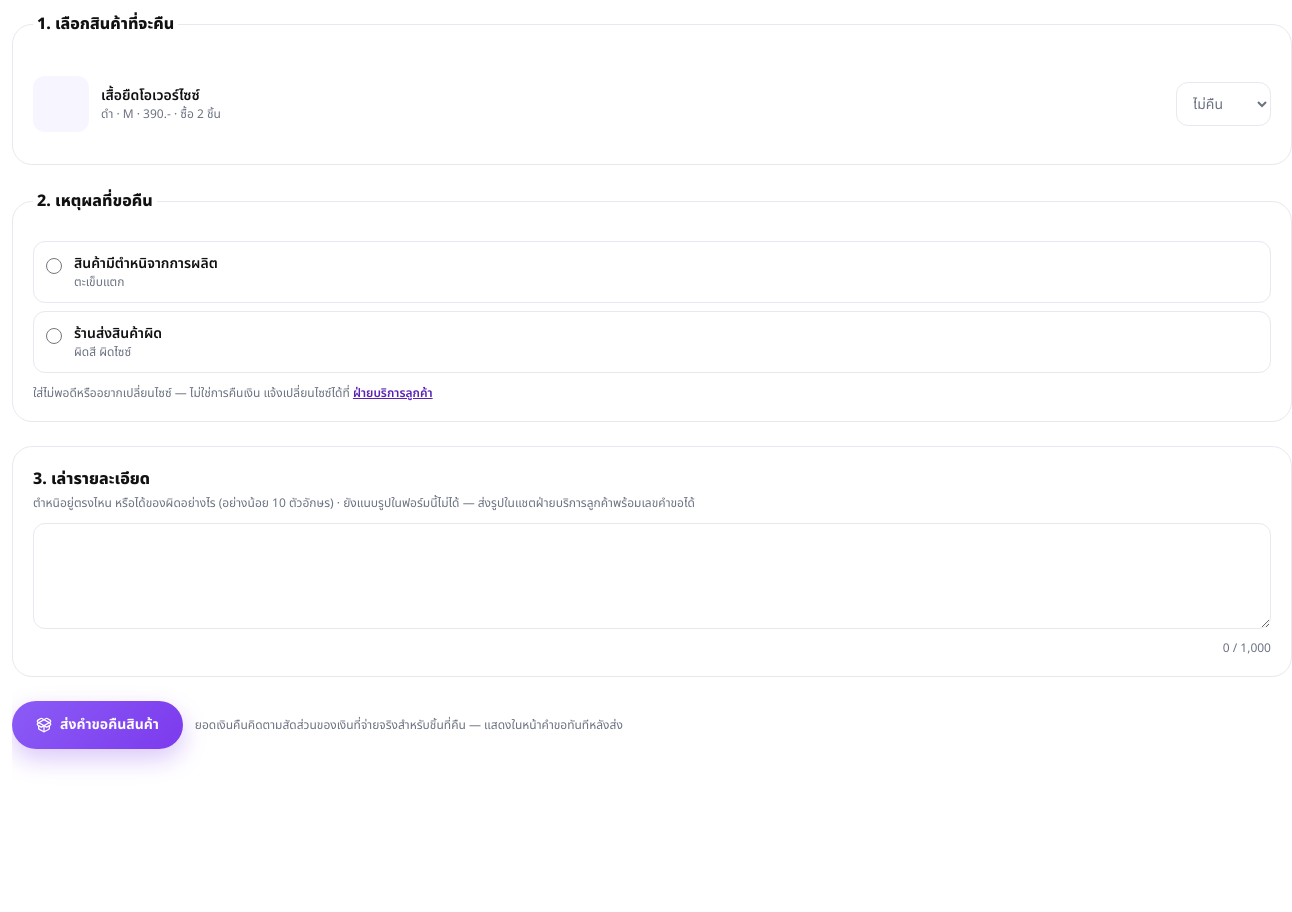
Test: ReturnRequestForm — ขอคืนสินค้า (STEP 43) › ไม่เลือกชิ้น / ไม่เลือกเหตุผล / รายละเอียดสั้นเกิน → ไม่ยิง API และบอกว่าต้องแก้อะไร
The image size is (1292, 912).
Click the button "ส่งคำขอคืนสินค้า" at (97, 725), box [12, 701, 183, 749]
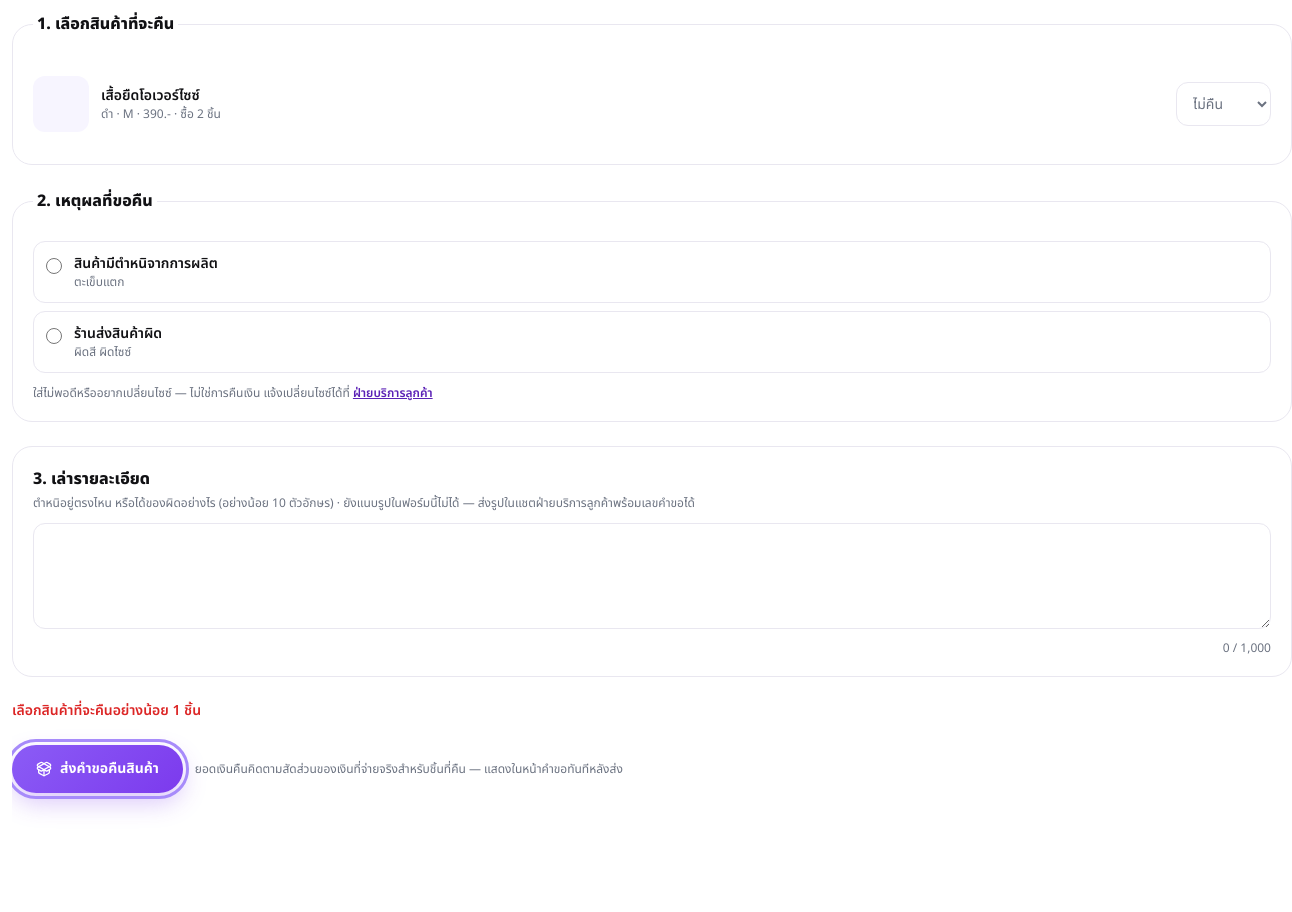
Expected: the message shows "เลือกสินค้า", [12, 700, 201, 721]
Select "คืน 2 ชิ้น" in the dropdown named "เสื้อยืดโอเวอร์ไซซ์" at (1224, 104), box [1176, 82, 1271, 126]
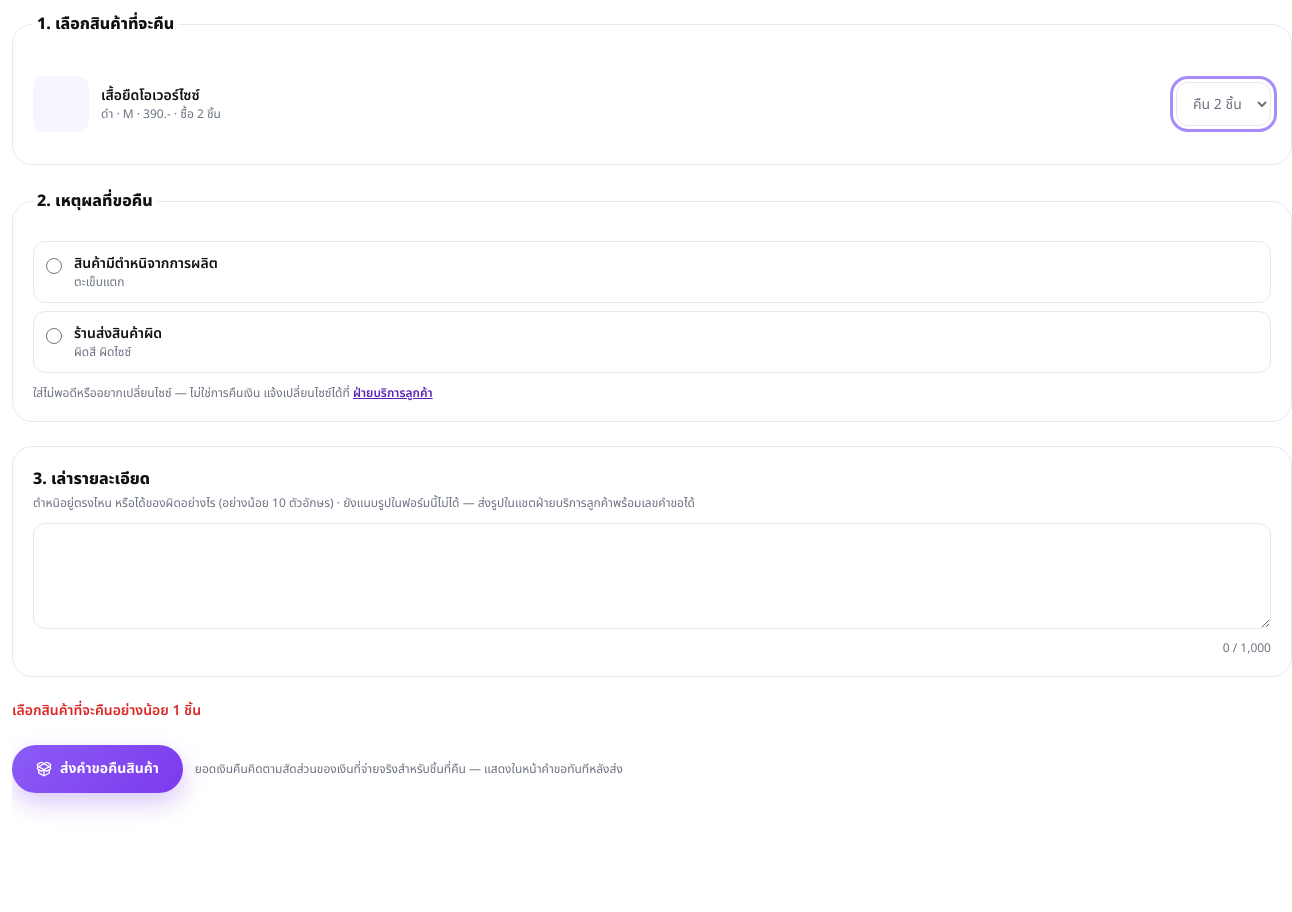
Click the button "ส่งคำขอคืนสินค้า" at (97, 769), box [12, 745, 183, 793]
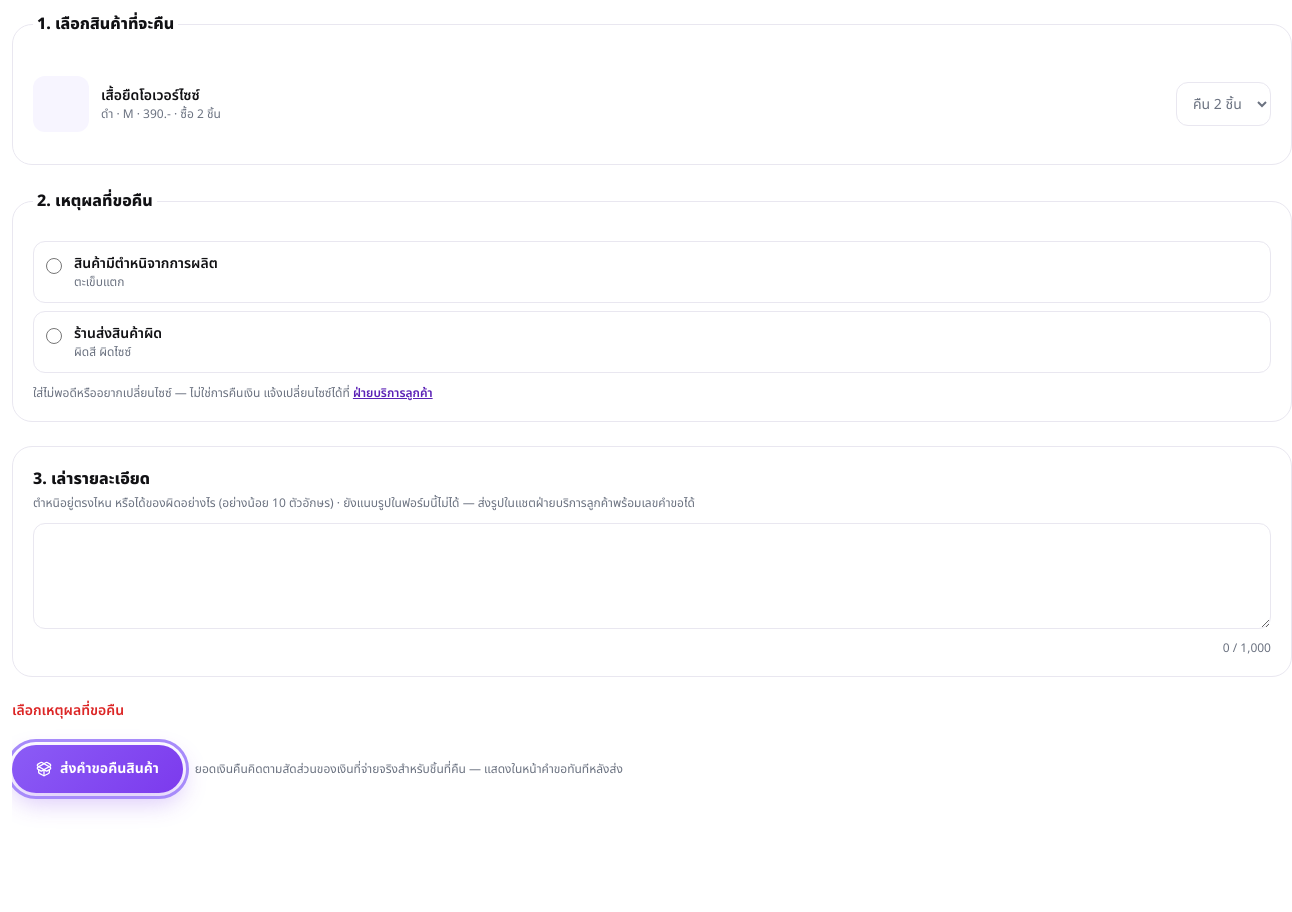
Expected: the message shows "เหตุผล", [12, 700, 124, 721]
Click the radio button labelled "ร้านส่งสินค้าผิด ผิดสี ผิดไซซ์" at (54, 336), box [46, 328, 62, 344]
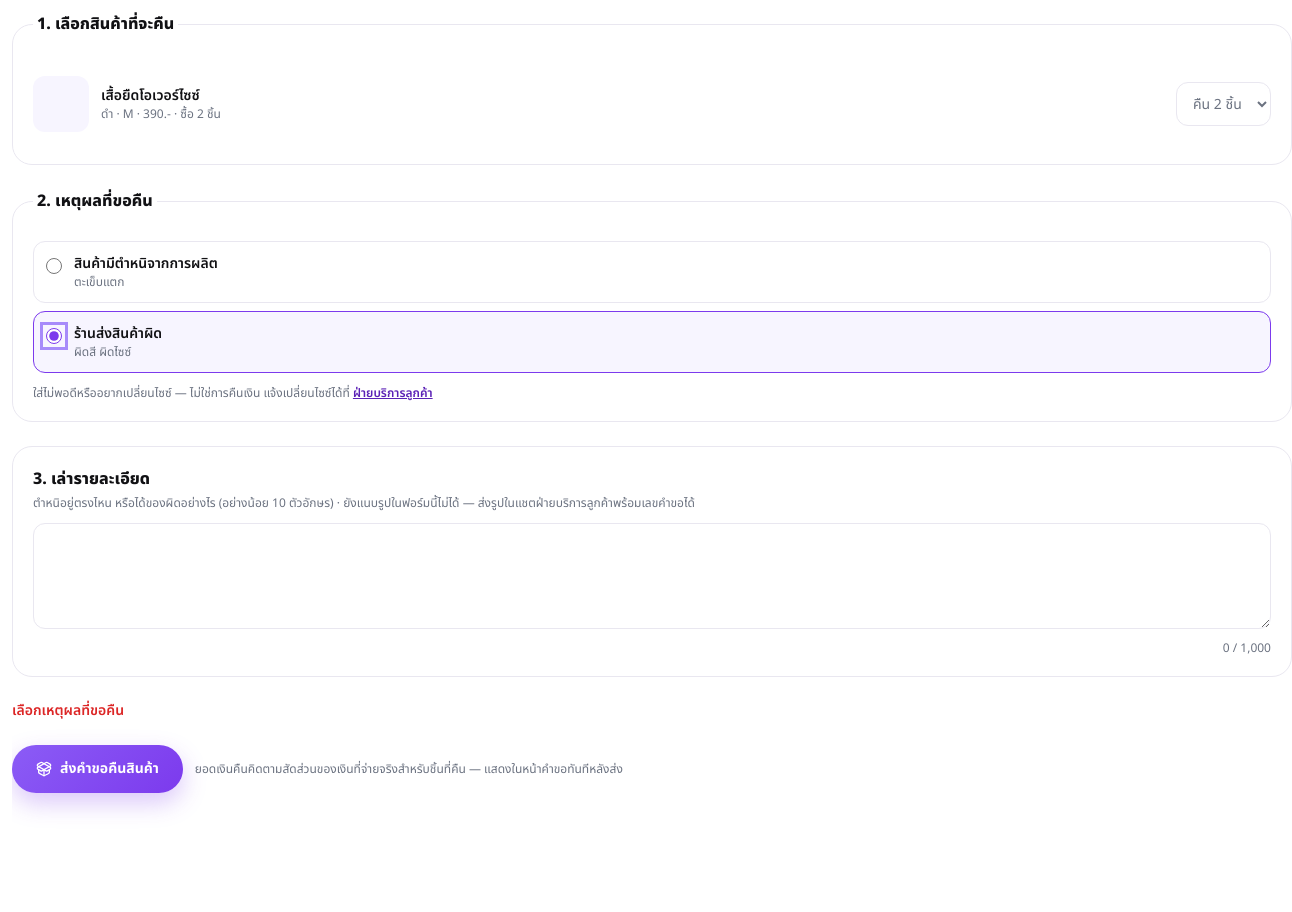
Type "สีผิด" into the text box labelled "3. เล่ารายละเอียด" at (652, 576), box [33, 523, 1271, 629]
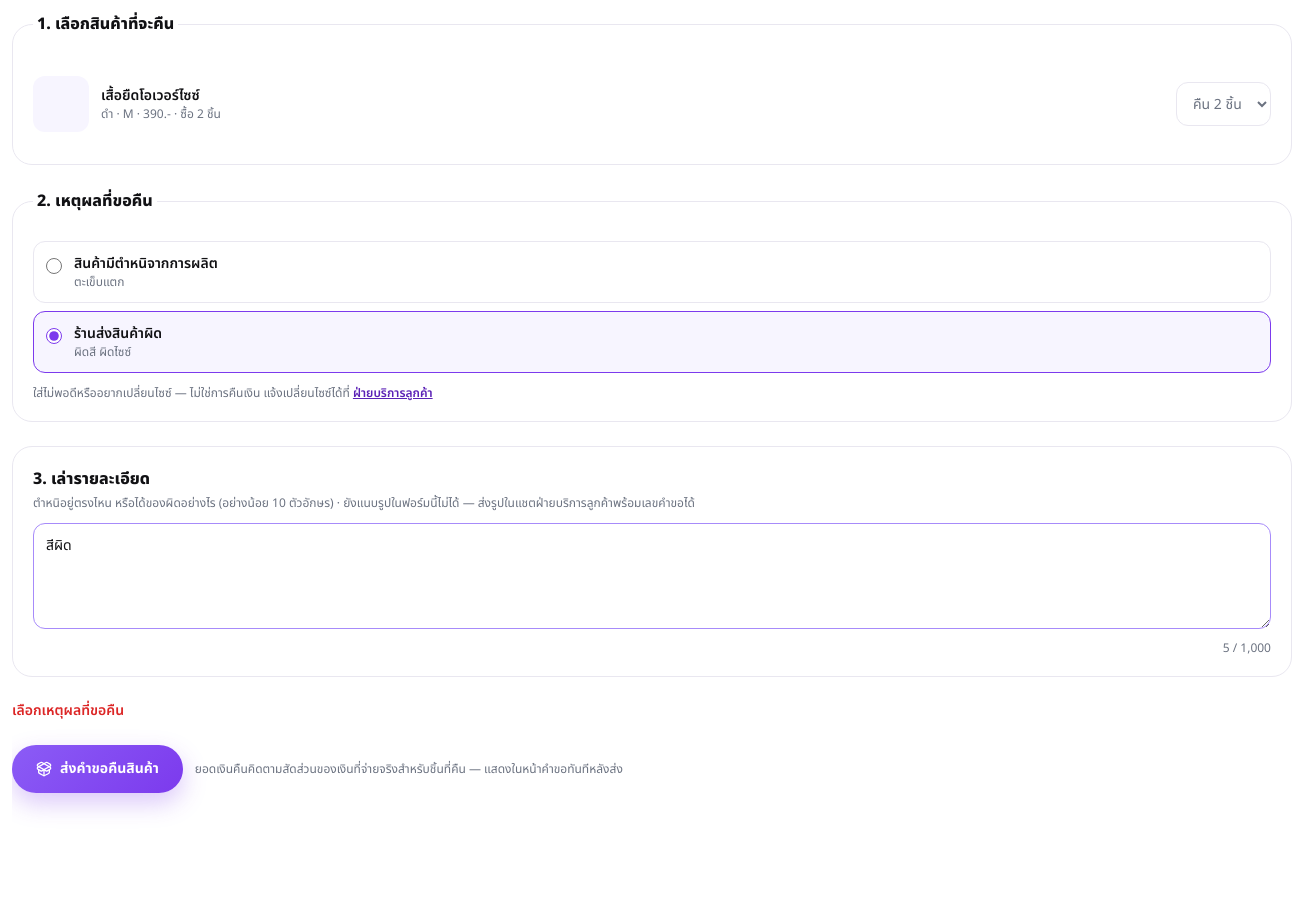
Click the button "ส่งคำขอคืนสินค้า" at (97, 769), box [12, 745, 183, 793]
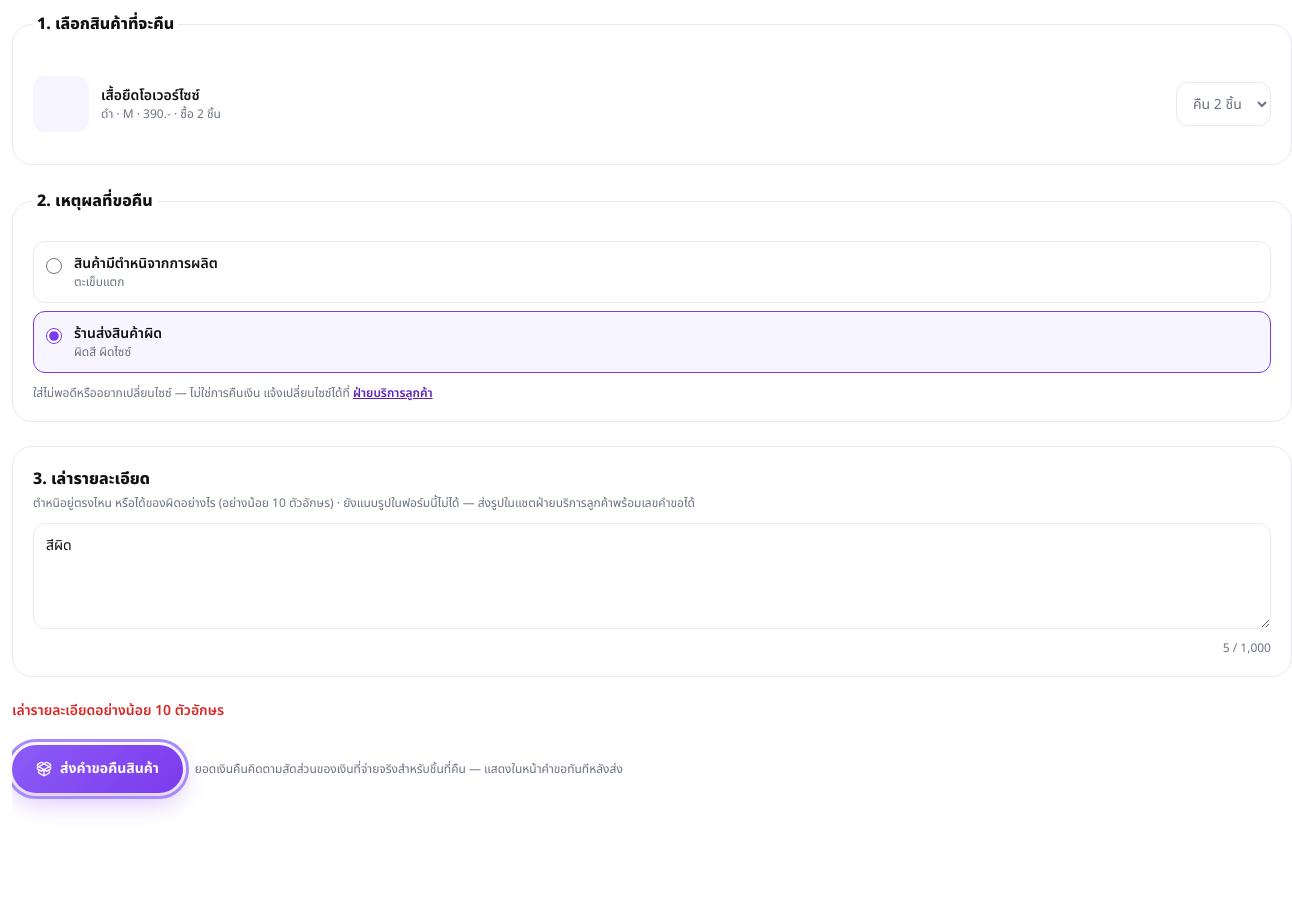
Expected: the message shows "10 ตัวอักษร", [12, 700, 224, 721]
